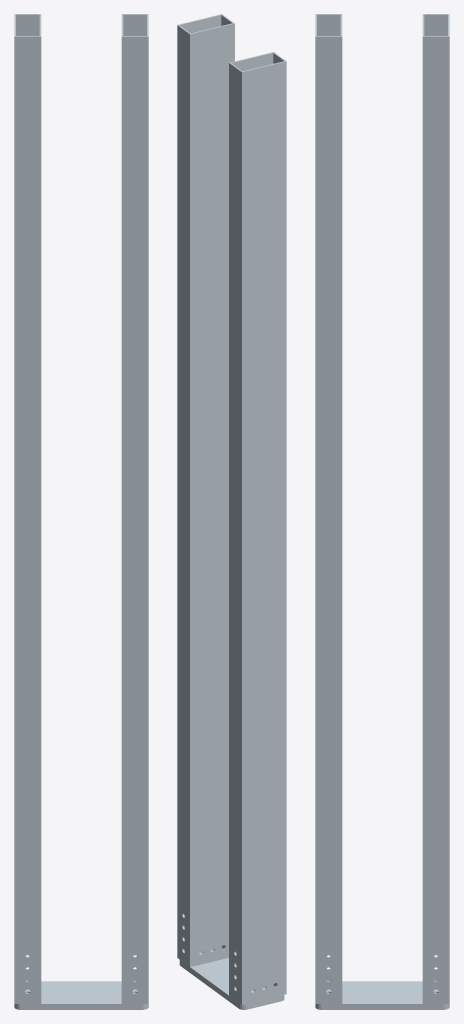
The picture shows the model from 3 angles, left to right: view 1: azimuth 90°, elevation 25°; view 2: azimuth 210°, elevation 25°; view 3: azimuth 270°, elevation 25°; orthographic projection. The views are drawn at different scales.
Parts seen in each view (by area): view 1: 1678-25-P-0702 (×2), 1678-25-P-0707; view 2: 1678-25-P-0702 (×2), 1678-25-P-0707; view 3: 1678-25-P-0702 (×2), 1678-25-P-0707.
Boxes of the visible parts, x1,y1,x2,y2 form: 1678-25-P-0702 (×2): (14,14,148,1003); 1678-25-P-0707: (14,981,148,1009); 1678-25-P-0702 (×2): (177,14,286,1004); 1678-25-P-0707: (179,948,284,1009); 1678-25-P-0702 (×2): (315,14,449,1003); 1678-25-P-0707: (315,981,449,1009).
Bounding box in the file's own units: 0.0509 × 1.02 × 0.127.
